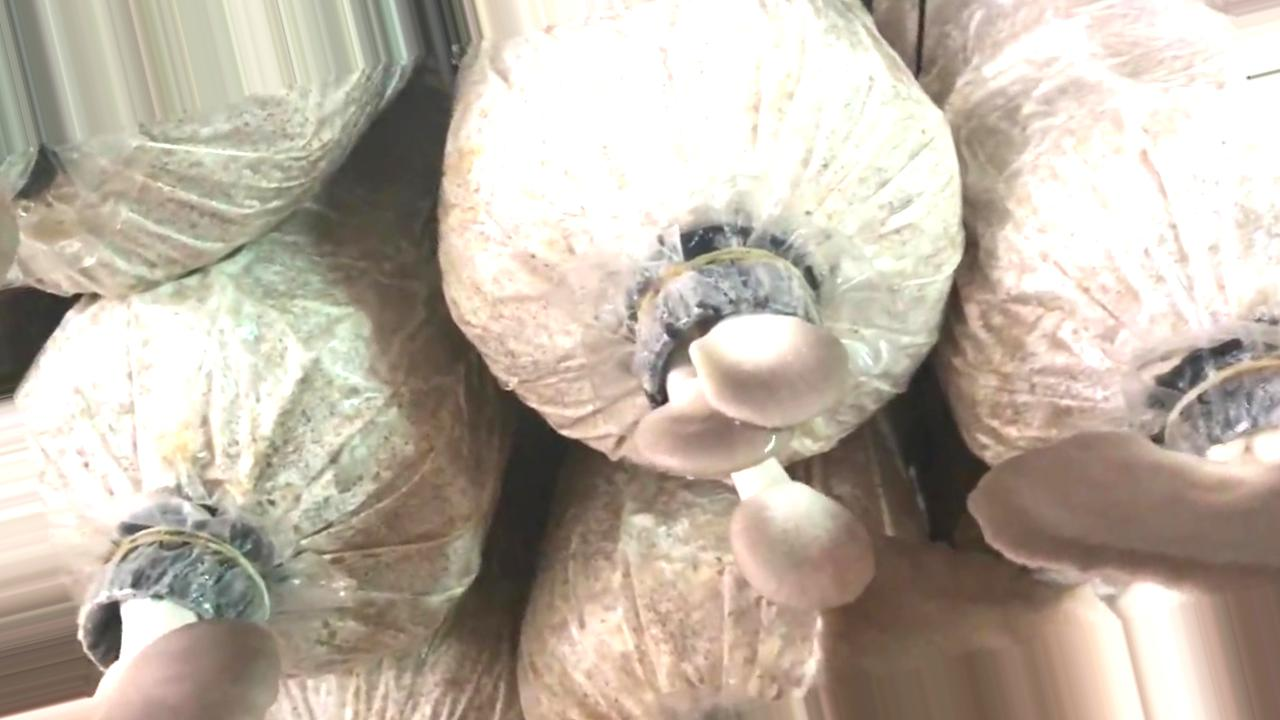nam: (822, 363, 1279, 716), (632, 254, 878, 609), (78, 539, 278, 720)
